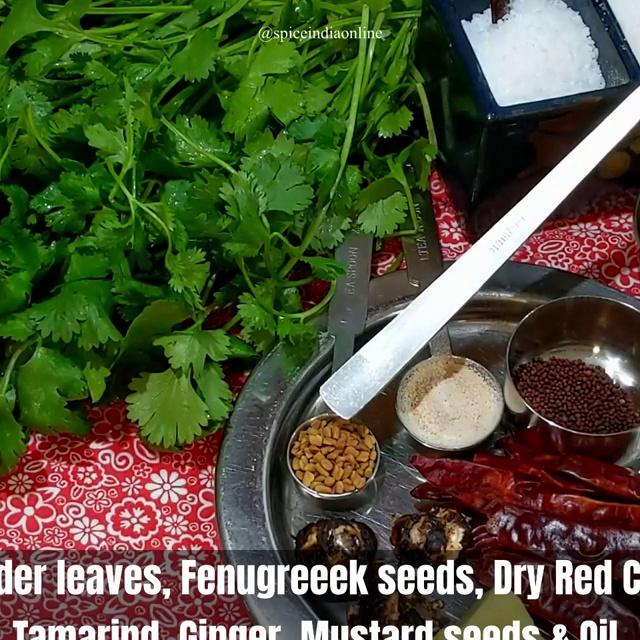cilantro: (0, 0, 344, 398)
